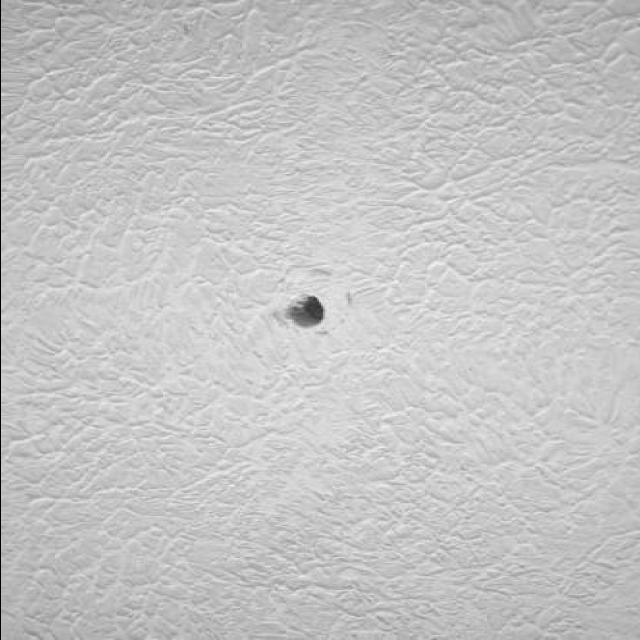pin holes: (255, 250, 356, 358)
